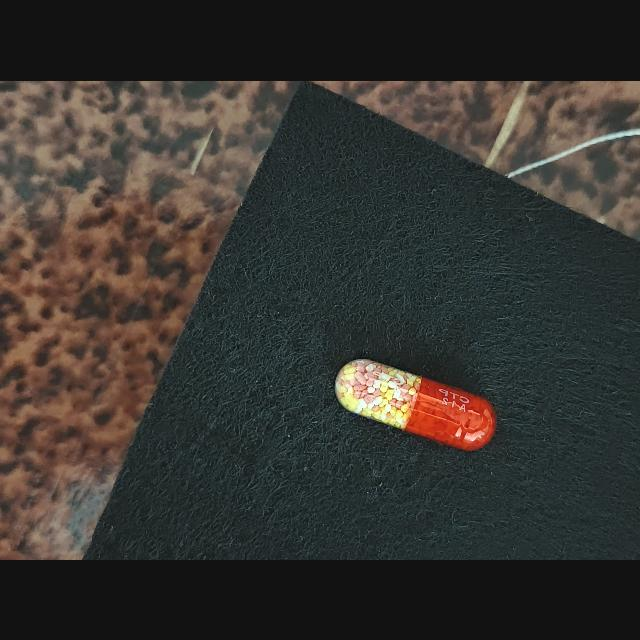Intact Capsule: (335, 358, 496, 451)
